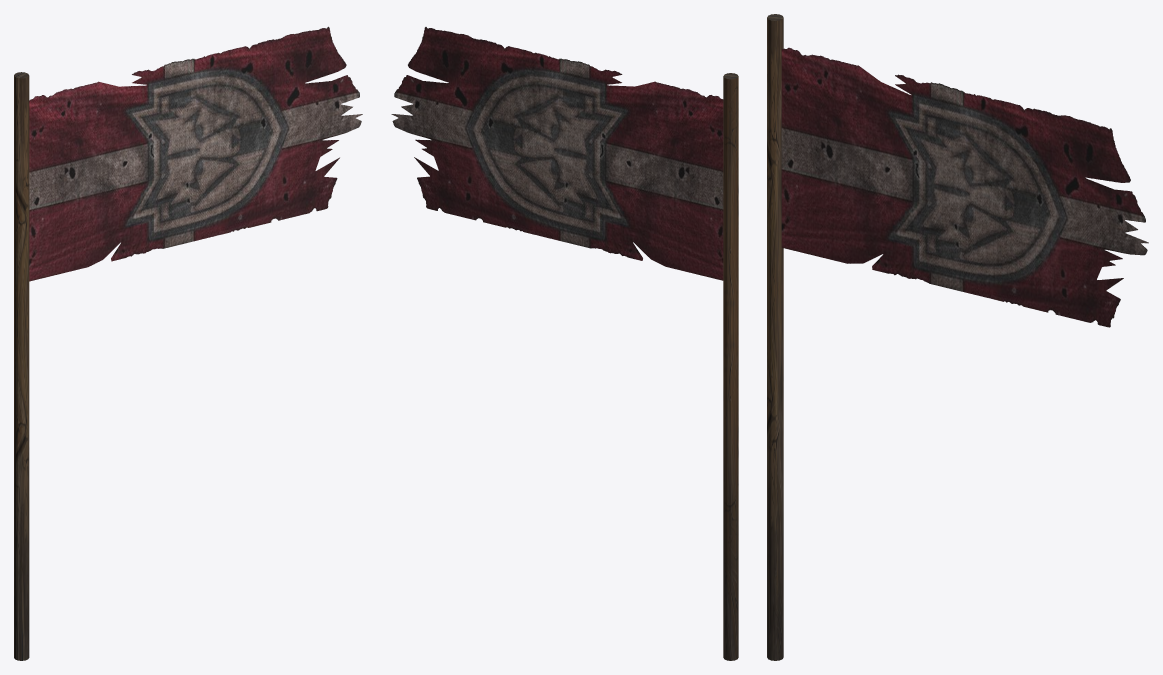
The model's file is flag_vc.fbx.
3 views of the same model, side by side, from view 1: azimuth 30°, elevation 25°; view 2: azimuth 150°, elevation 25°; view 3: azimuth 330°, elevation 25° (orthographic). The views are drawn at different scales.
Visible parts, largest first — view 1: Plane; view 2: Plane; view 3: Plane.
Part boxes in pixels (box(x1,y1,x2,y2)): Plane: box(14, 26, 362, 660); Plane: box(391, 27, 738, 660); Plane: box(767, 14, 1148, 660).
Bounding box in the file's own units: 530 × 849 × 20.
Materials: 1 (1 with a texture image).
